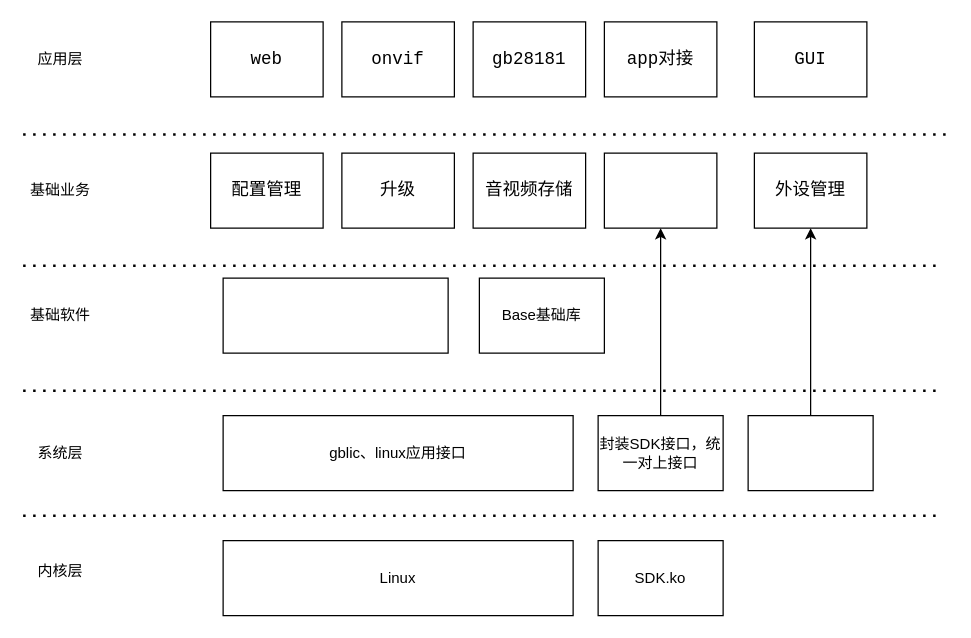
This 971x638 diagram has some shape labels left out. The shapes that lost their labels are listed below. From the top down, each one's centre as x and y in pixels, then its label:
point 660,190: 音视频采集、编解码
point 335,315: 三方软件：openssl、curl、freetype、exosip
point 810,452: 外设驱动接口
